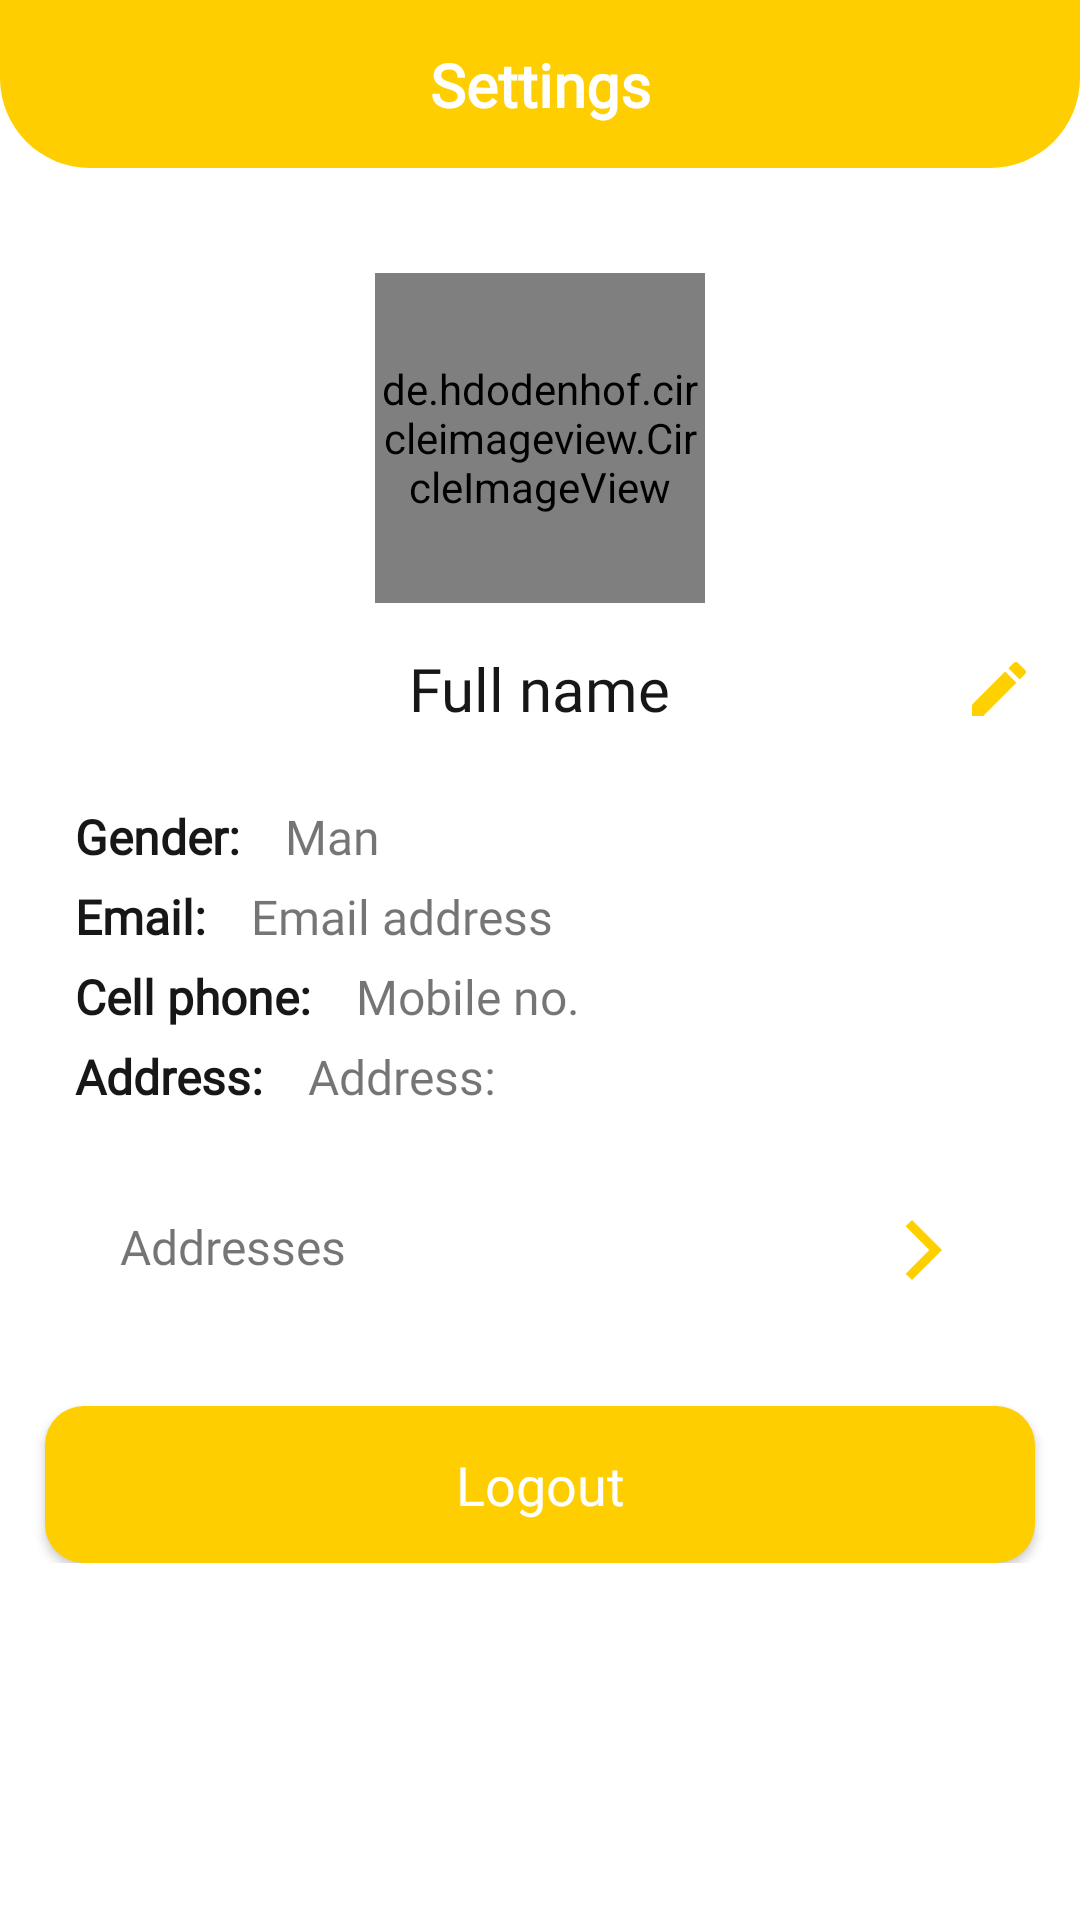

Named icons in this screenshot (1080w x 1920h) and their bounding boxes, bbox(x1, y1, x2, y2):
arrow forward: bbox(905, 1220, 942, 1280)
edit: bbox(972, 662, 1026, 716)
